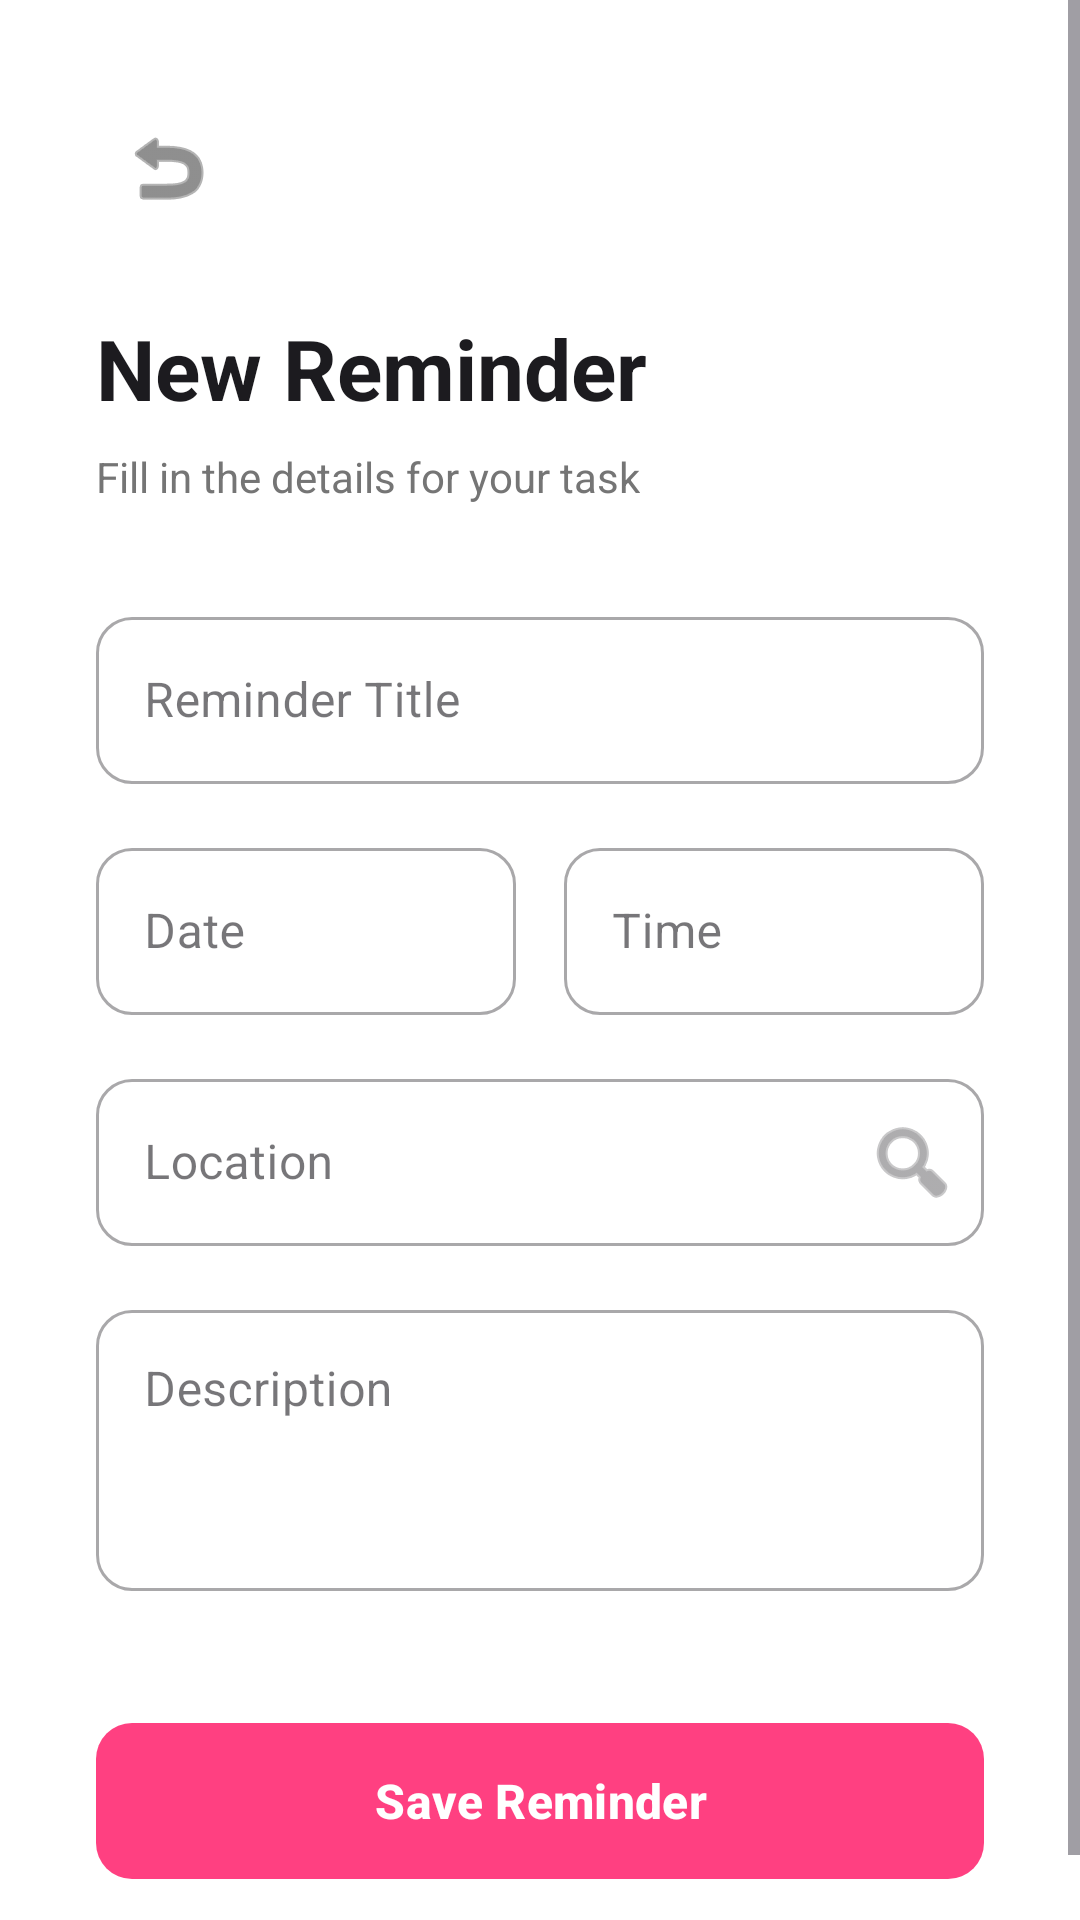

Where to tap for icons on this 1080px×1920px app screen, as point (x, y):
Go Back: point (169, 168)
